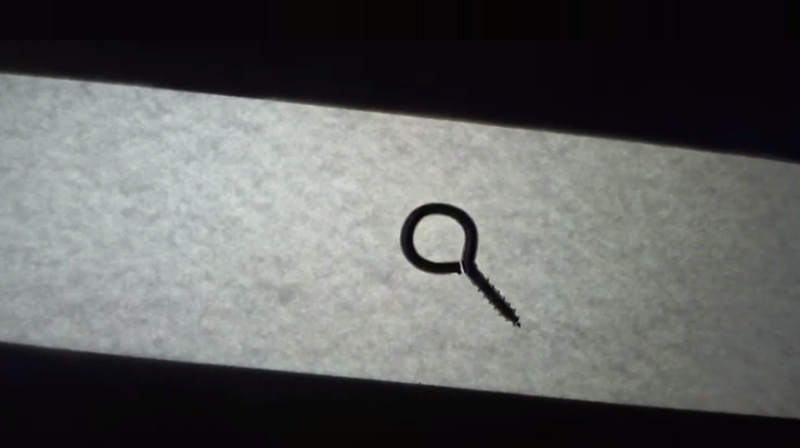O001: (396, 199, 522, 329)
